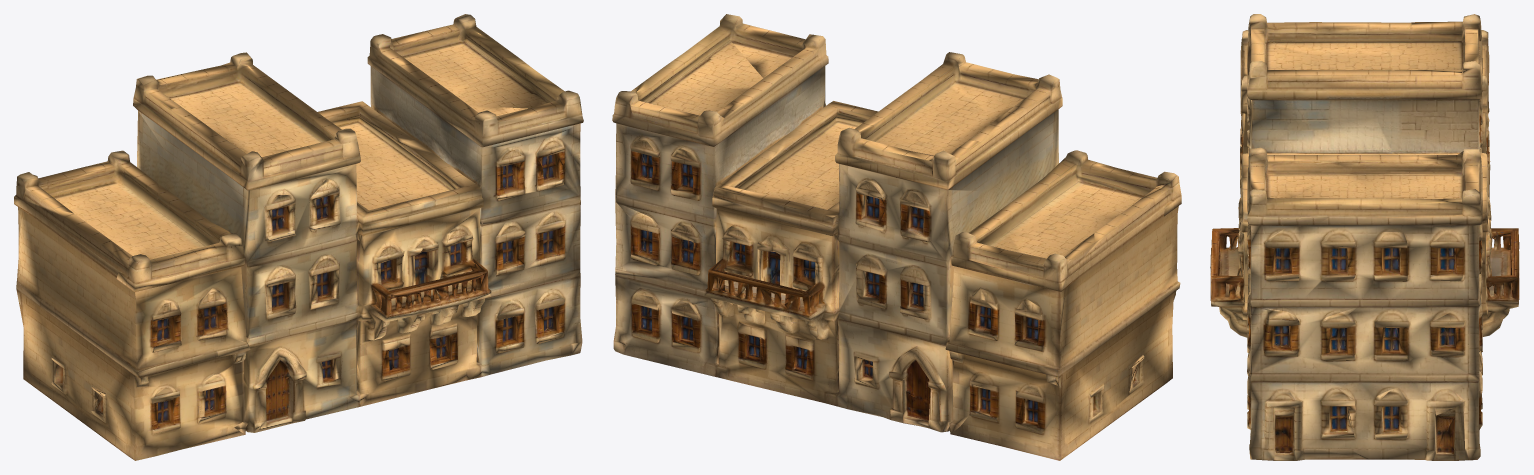
The model's file is city_gaziantep_stone_houses.glb.
3 renders of one model, left to right at view 1: azimuth 30°, elevation 25°; view 2: azimuth 150°, elevation 25°; view 3: azimuth 270°, elevation 25°, orthographic. The views are drawn at different scales.
Parts seen in each view (by area): view 1: Mesh1.0; view 2: Mesh1.0; view 3: Mesh1.0.
Part boxes in pixels (x1,y1,x2,y2): Mesh1.0: [14, 14, 583, 460]; Mesh1.0: [612, 14, 1181, 460]; Mesh1.0: [1210, 14, 1519, 460].
Bounding box in the file's own units: 17.25 × 10 × 9.96.
Materials: 1 (1 with a texture image).
